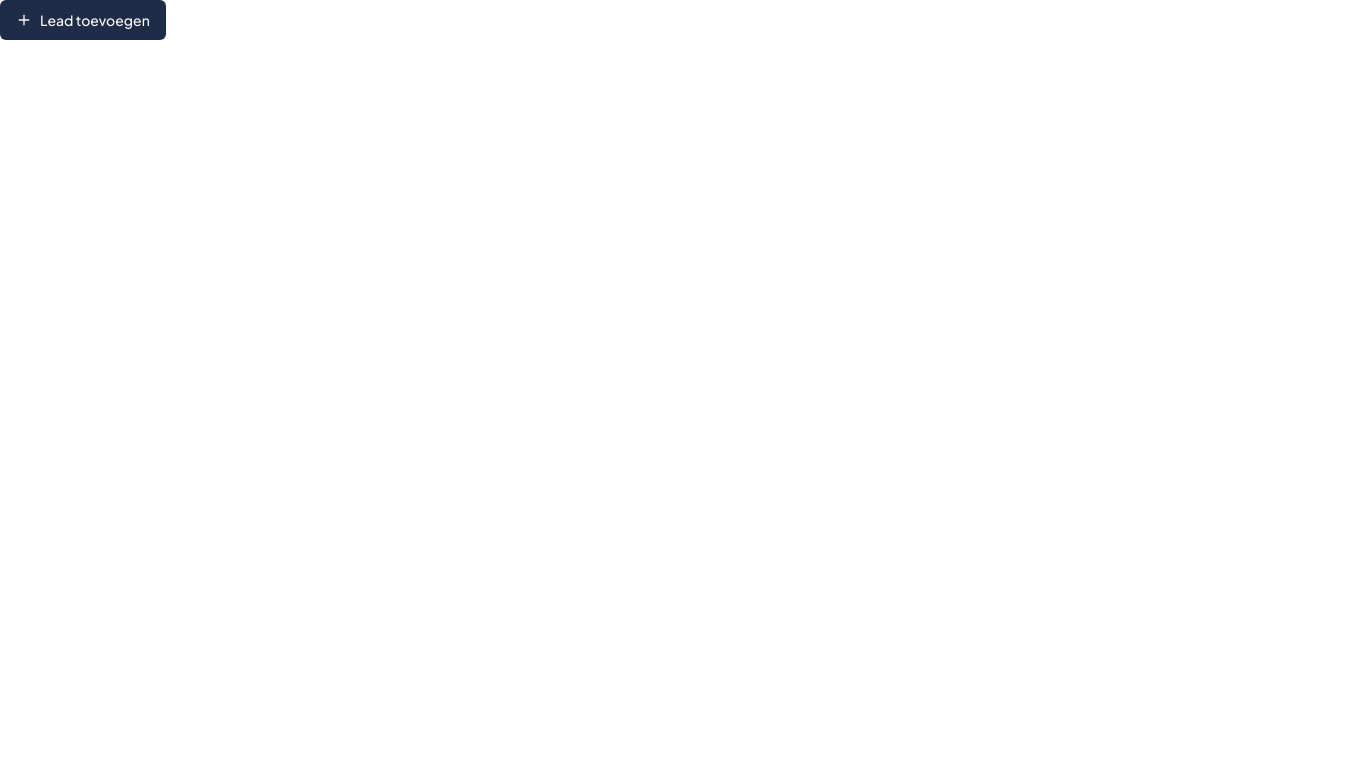
dubbelcheck vereist expliciete toch-nieuw en stuurt geen klantmail
Later steps or results of the test are not shown.
Click the button "Lead toevoegen": click(83, 20) x1=0 y1=0 x2=166 y2=40
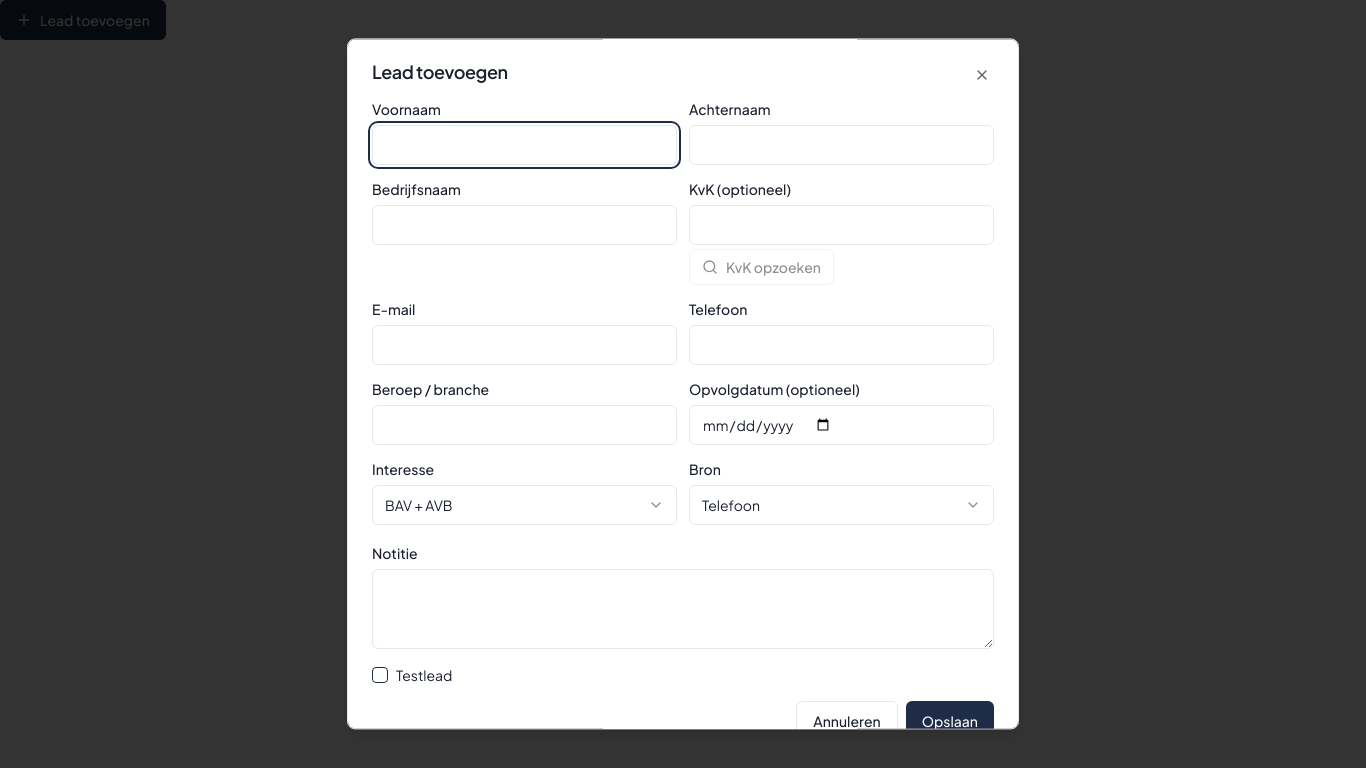
In the field labelled "Voornaam": (524, 145) x1=372 y1=125 x2=677 y2=165, type "Test"
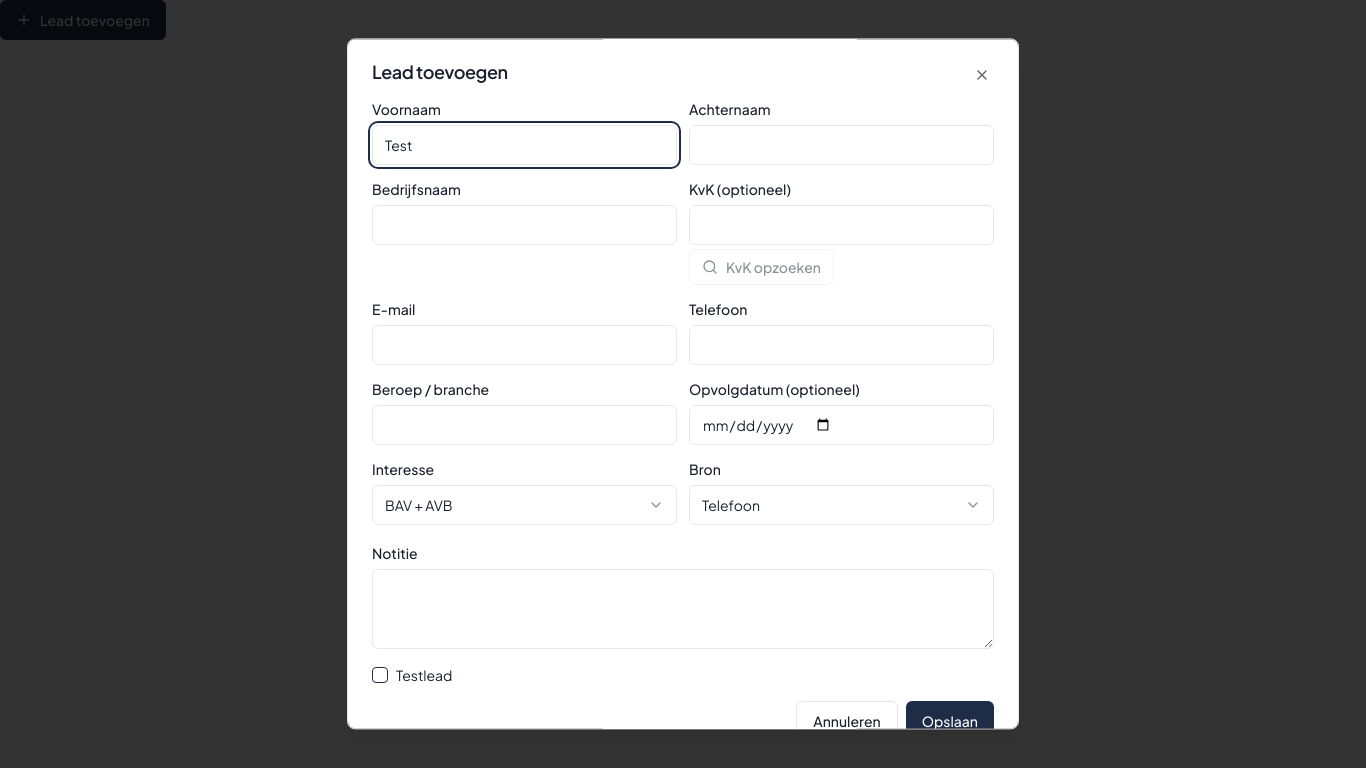
In the field labelled "Achternaam": (842, 145) x1=689 y1=125 x2=994 y2=165, type "A19"
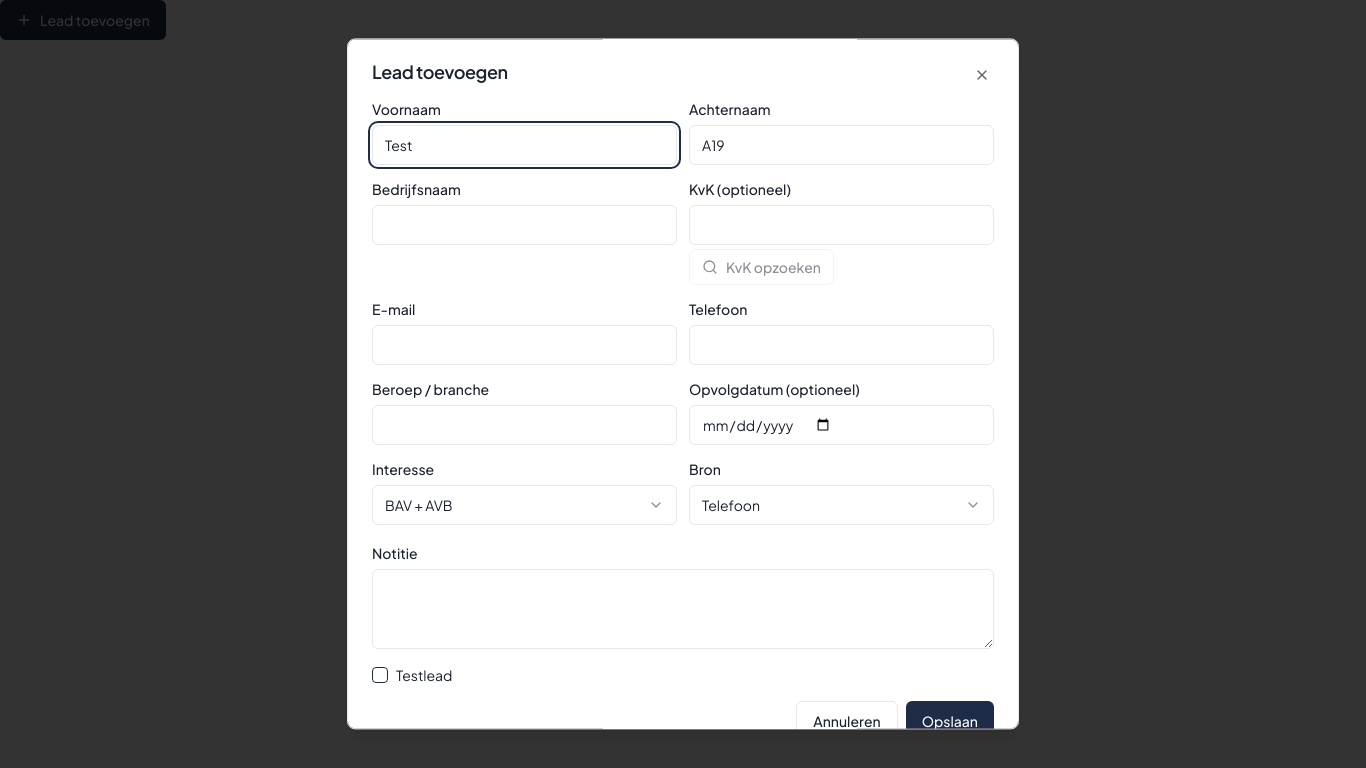
In the field labelled "E-mail": (524, 345) x1=372 y1=325 x2=677 y2=365, type "a19@zpzaken.nl"
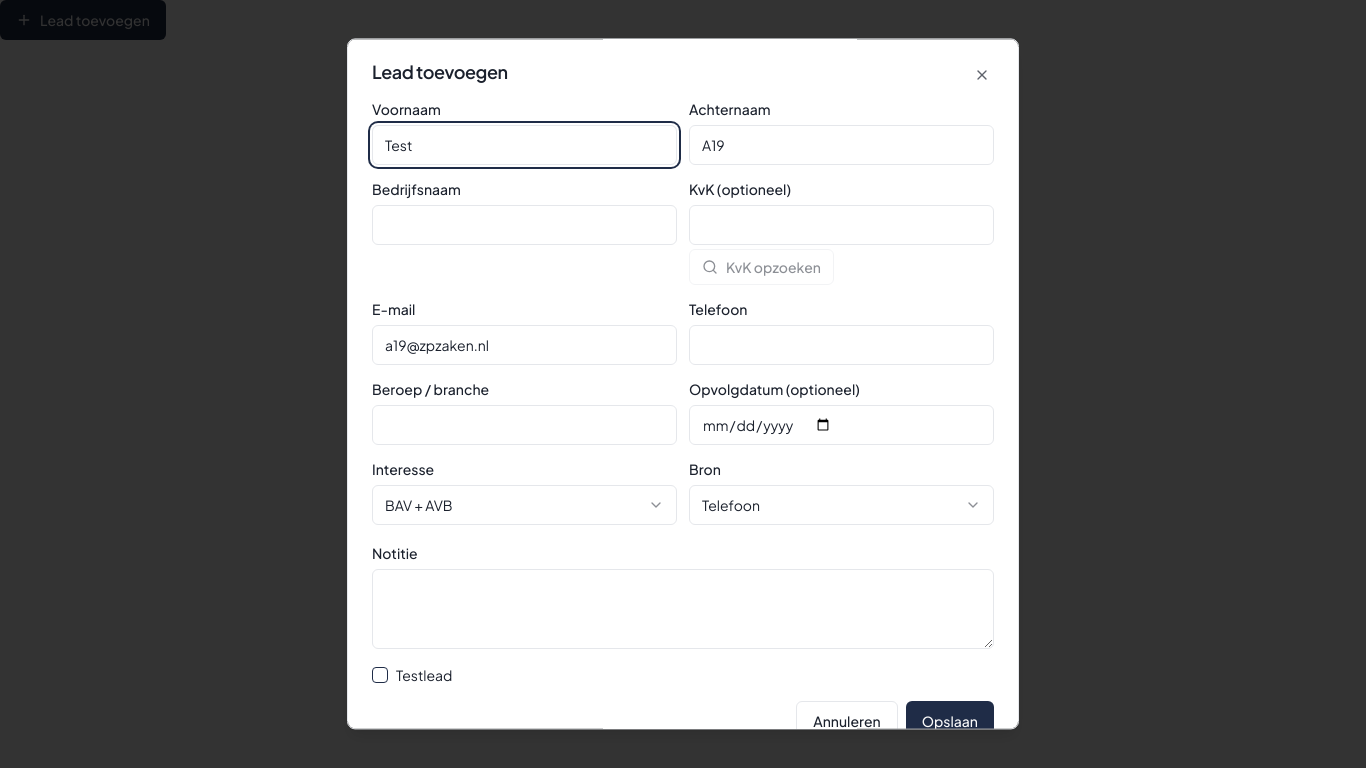
Click the button "Opslaan": click(950, 721) x1=906 y1=701 x2=994 y2=741
(page scrolled)
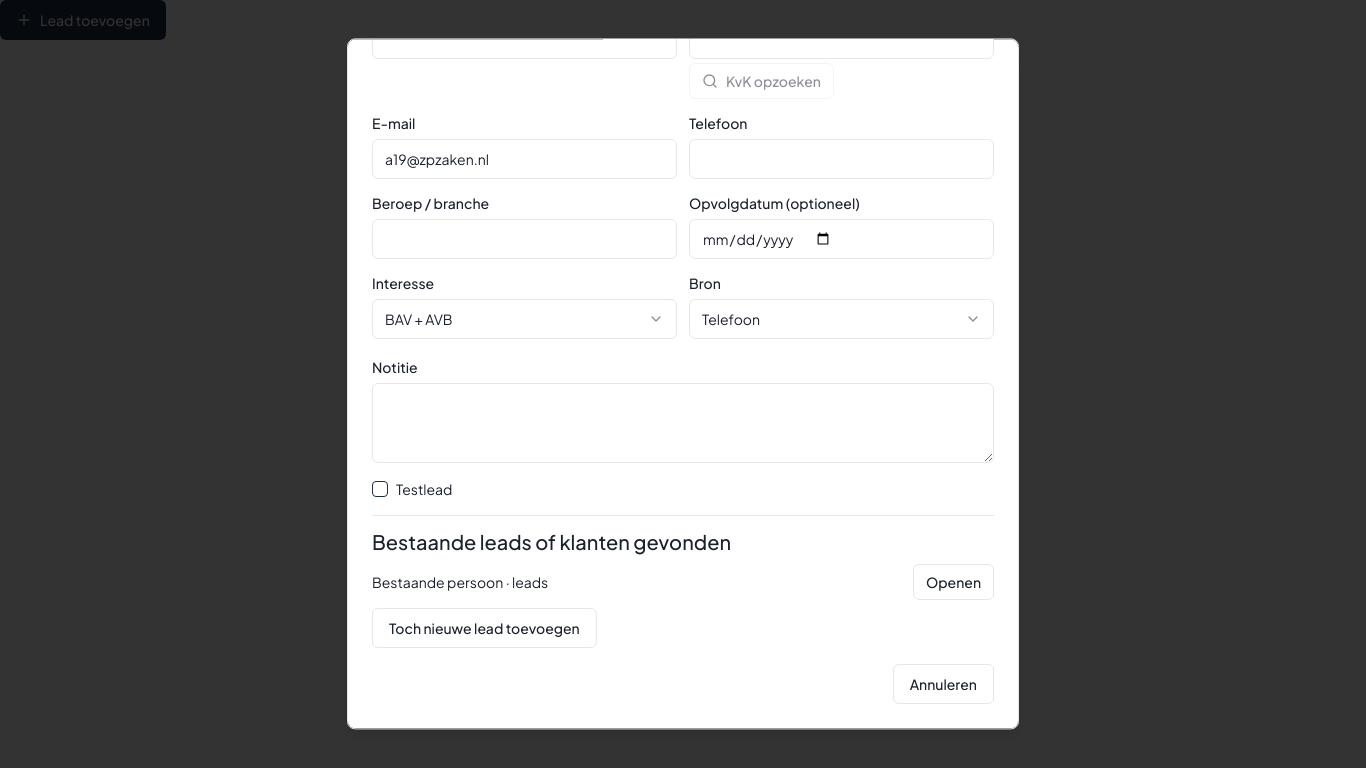
Expected: the text "Bestaande persoon · leads" is shown, x1=372 y1=572 x2=548 y2=592
